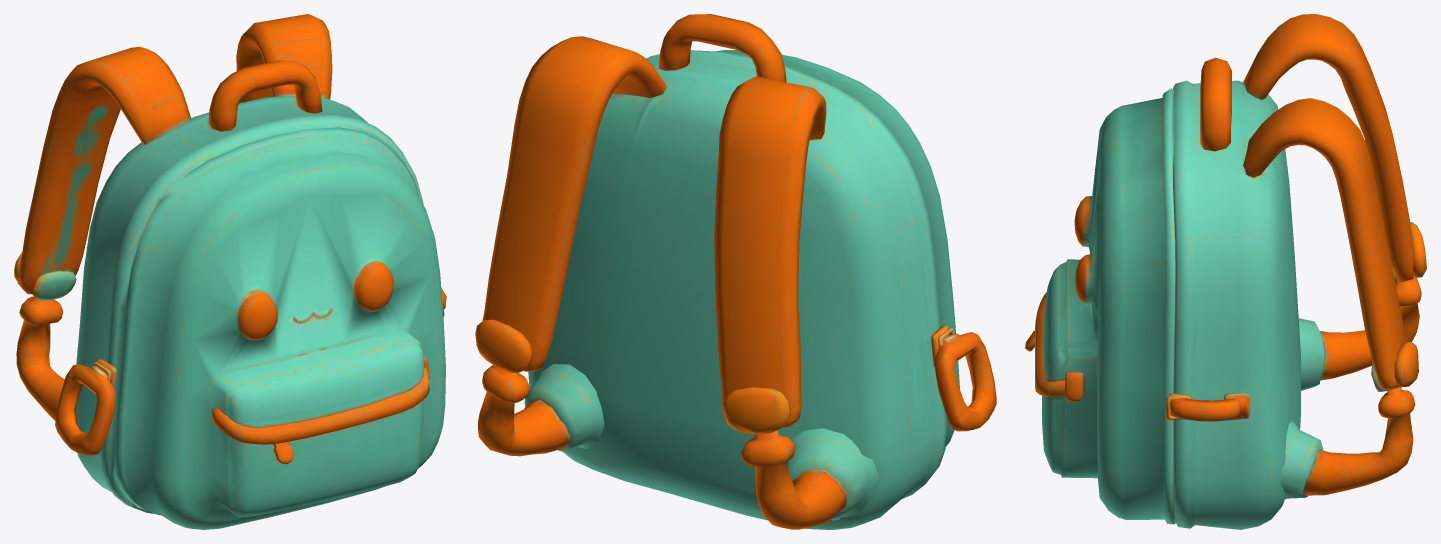
Rendered from backpack.882b468c.glb.
3 renders of one model, left to right at view 1: azimuth 30°, elevation 25°; view 2: azimuth 150°, elevation 25°; view 3: azimuth 270°, elevation 25°, orthographic. The views are drawn at different scales.
Visible parts, largest first — view 1: tripo_node_30ddbca6-952b-49df-9673-a751fc0461b5; view 2: tripo_node_30ddbca6-952b-49df-9673-a751fc0461b5; view 3: tripo_node_30ddbca6-952b-49df-9673-a751fc0461b5.
Part boxes in pixels (bbox=[...]): tripo_node_30ddbca6-952b-49df-9673-a751fc0461b5: bbox=[14, 14, 446, 529]; tripo_node_30ddbca6-952b-49df-9673-a751fc0461b5: bbox=[475, 14, 996, 529]; tripo_node_30ddbca6-952b-49df-9673-a751fc0461b5: bbox=[1025, 14, 1426, 529].
Size of the model in its own units: 0.9628 by 0.998 by 0.873.
Materials: 1 (1 with a texture image).
